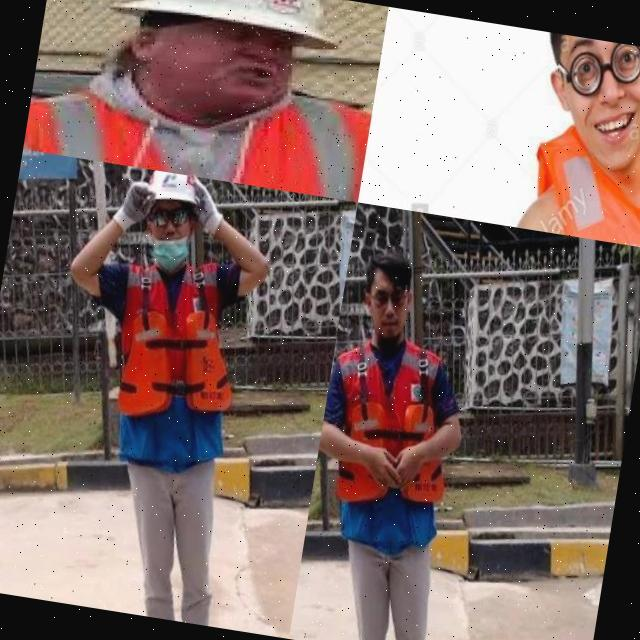helmet: (98, 0, 347, 81), (140, 169, 202, 215)
vest: (23, 41, 375, 202), (89, 243, 261, 480), (307, 324, 475, 562), (485, 56, 640, 249)
